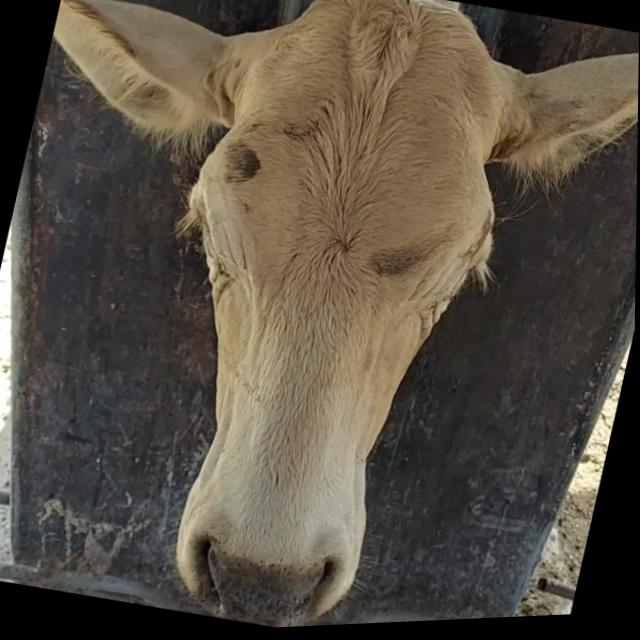cowFace: (103, 0, 541, 636)
